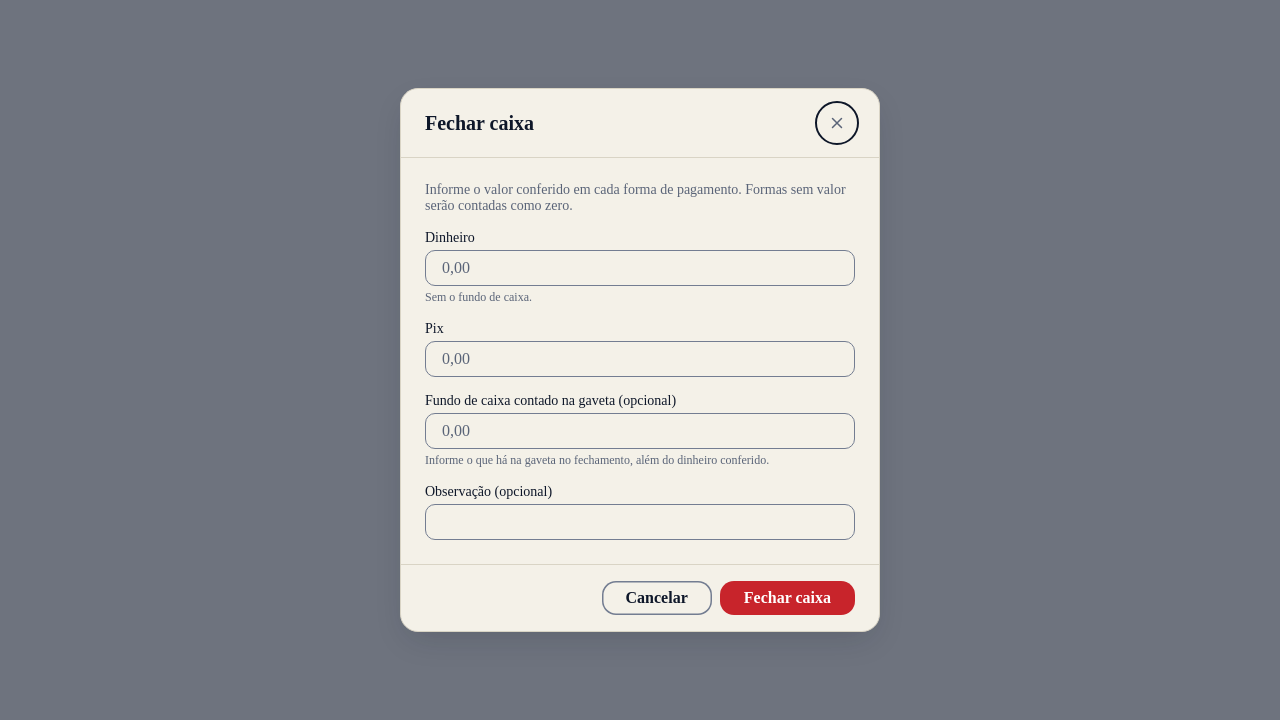
Test case: FecharCaixaModal › mostra a mensagem da API quando não há caixa aberto
Click the button "Fechar caixa" at [787, 598], box [720,581,855,615]
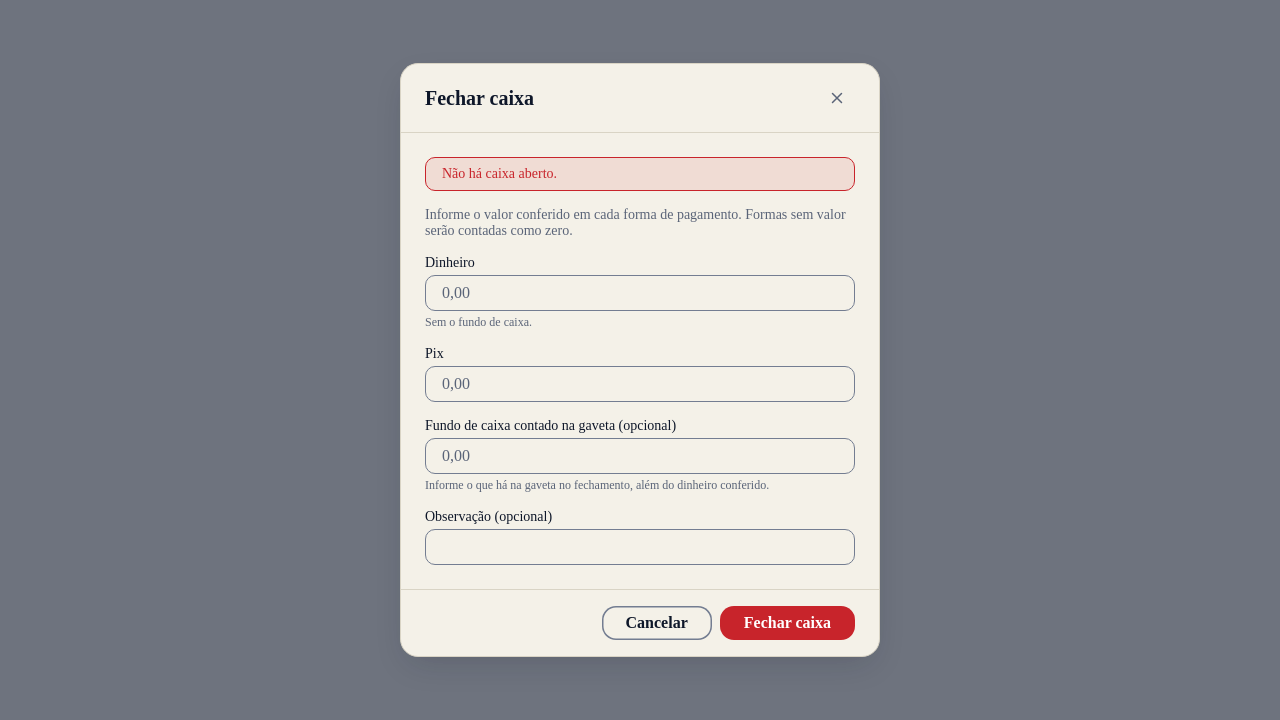
Expected: the message "Não há caixa aberto." is shown, [425,157,855,191]
